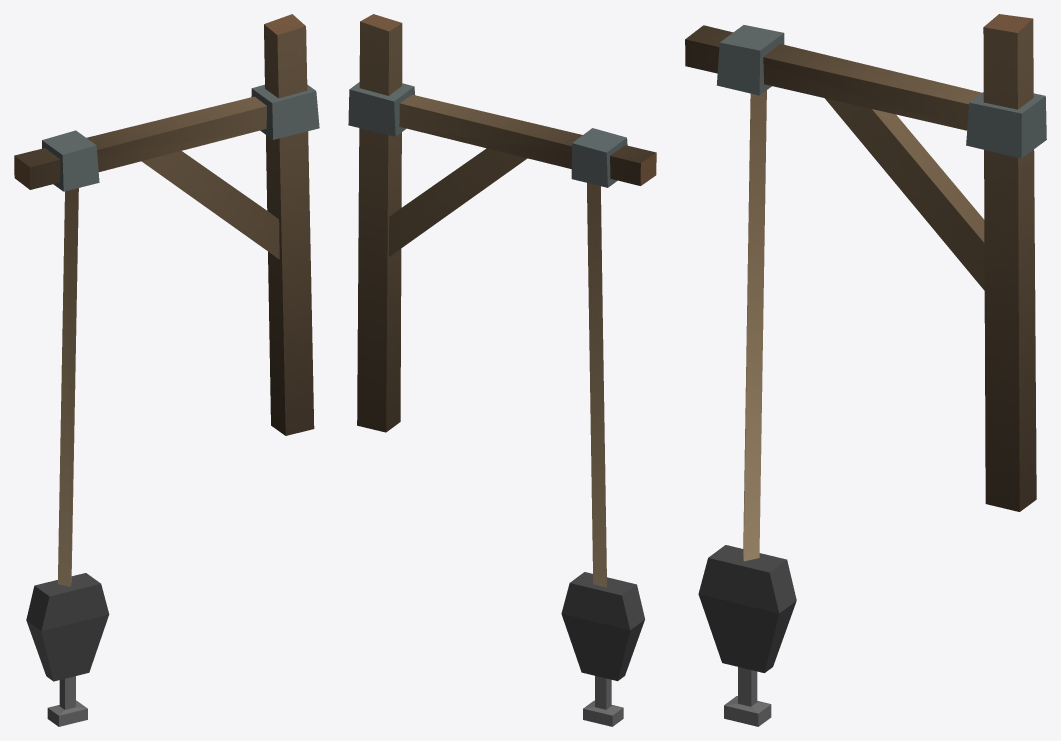
Rendered from ZLP_Build_F_31.FBX.
3 views of the same model, side by side, from view 1: azimuth 30°, elevation 25°; view 2: azimuth 150°, elevation 25°; view 3: azimuth 330°, elevation 25° (orthographic). The views are drawn at different scales.
Parts seen in each view (by area): view 1: ZLP_Build_F_31; view 2: ZLP_Build_F_31; view 3: ZLP_Build_F_31.
Boxes of the visible parts, bbox=[...] form: ZLP_Build_F_31: bbox=[14, 14, 319, 726]; ZLP_Build_F_31: bbox=[348, 14, 656, 726]; ZLP_Build_F_31: bbox=[685, 14, 1046, 726].
Size of the model in its own units: 262 by 560 by 36.6.
